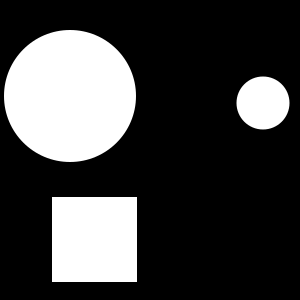circle: (52, 197, 137, 282)
rectangle: (4, 30, 136, 162), (236, 76, 290, 130)
